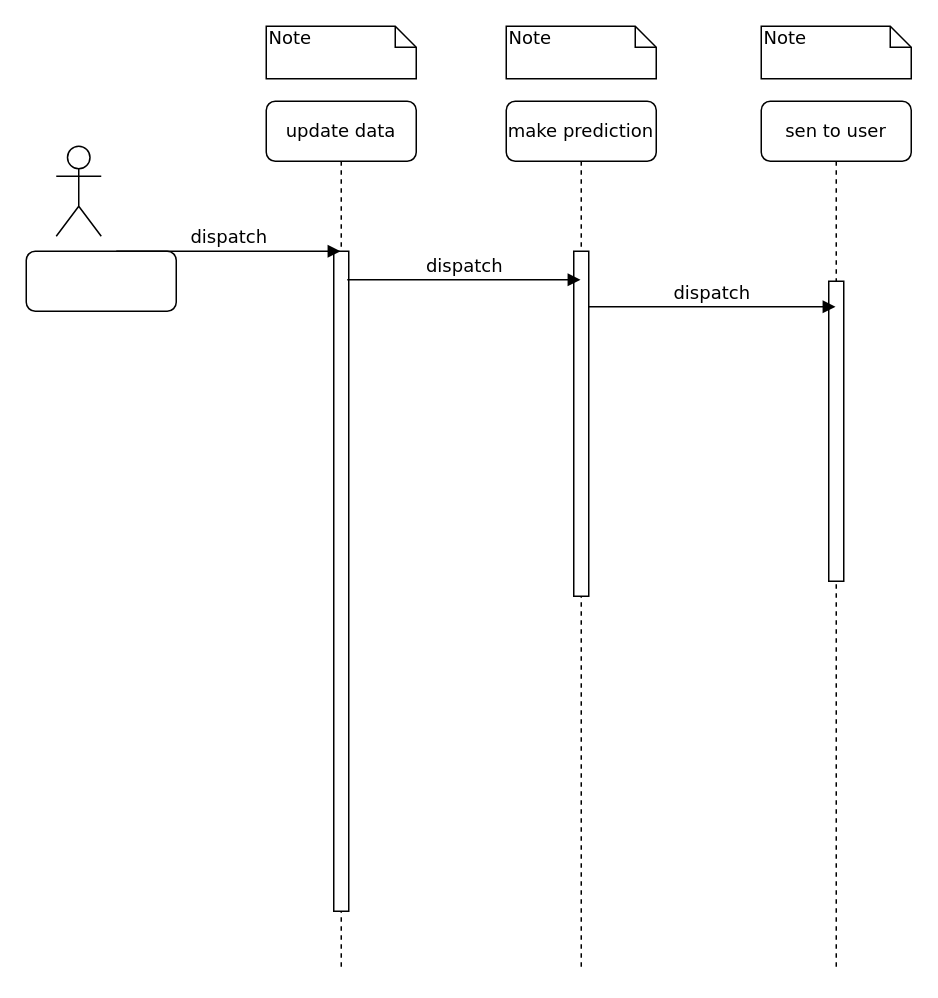
The diagram is 938 pixels wide and 998 high, and some of its shapes have lost their labels. Each missing label, with the centre of its shape:
"Actor" belongs at point 78,190.
"Recommendation System" belongs at point 100,280.
